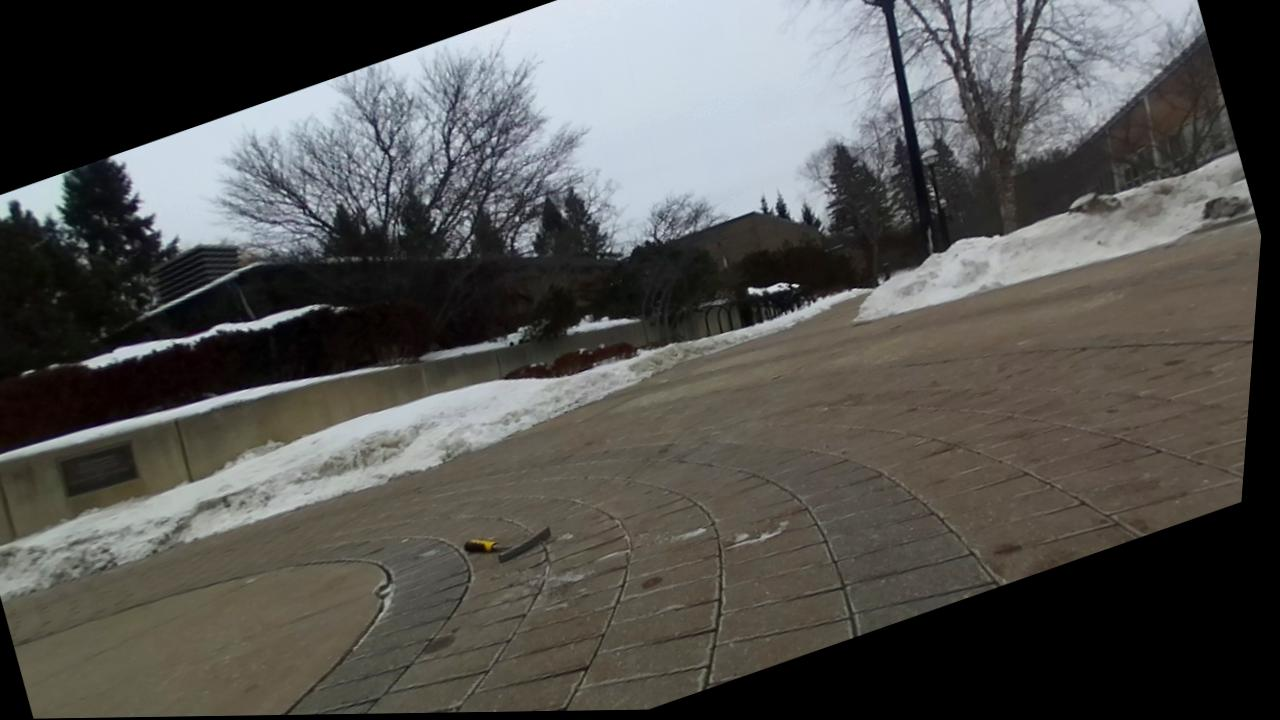pick: (463, 526, 550, 562)
